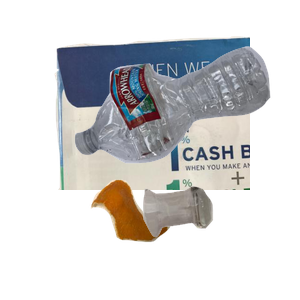glass: (141, 184, 300, 300)
paper: (52, 34, 292, 214)
plastic: (72, 44, 300, 200)
trash: (88, 177, 251, 300)
